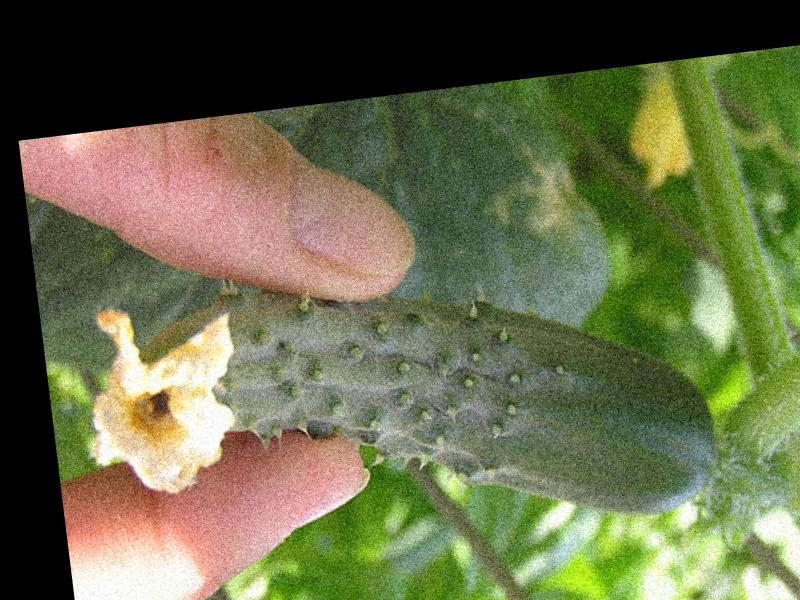Cucumber: (78, 237, 725, 577)
